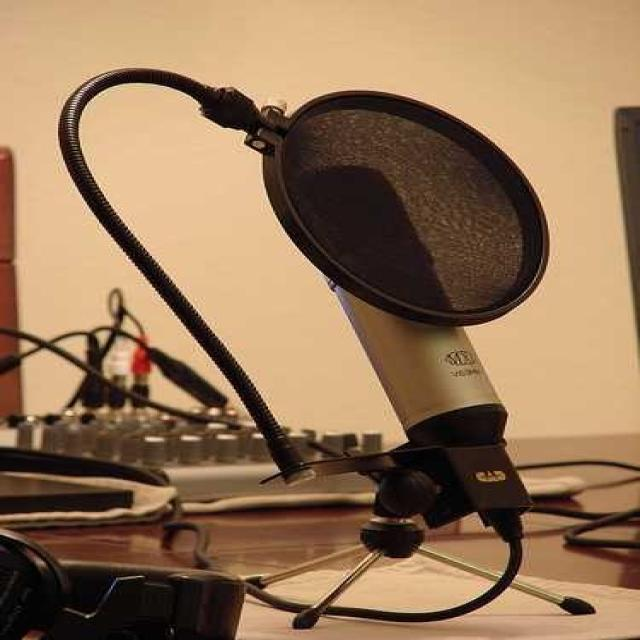microphone: (279, 151, 527, 451)
